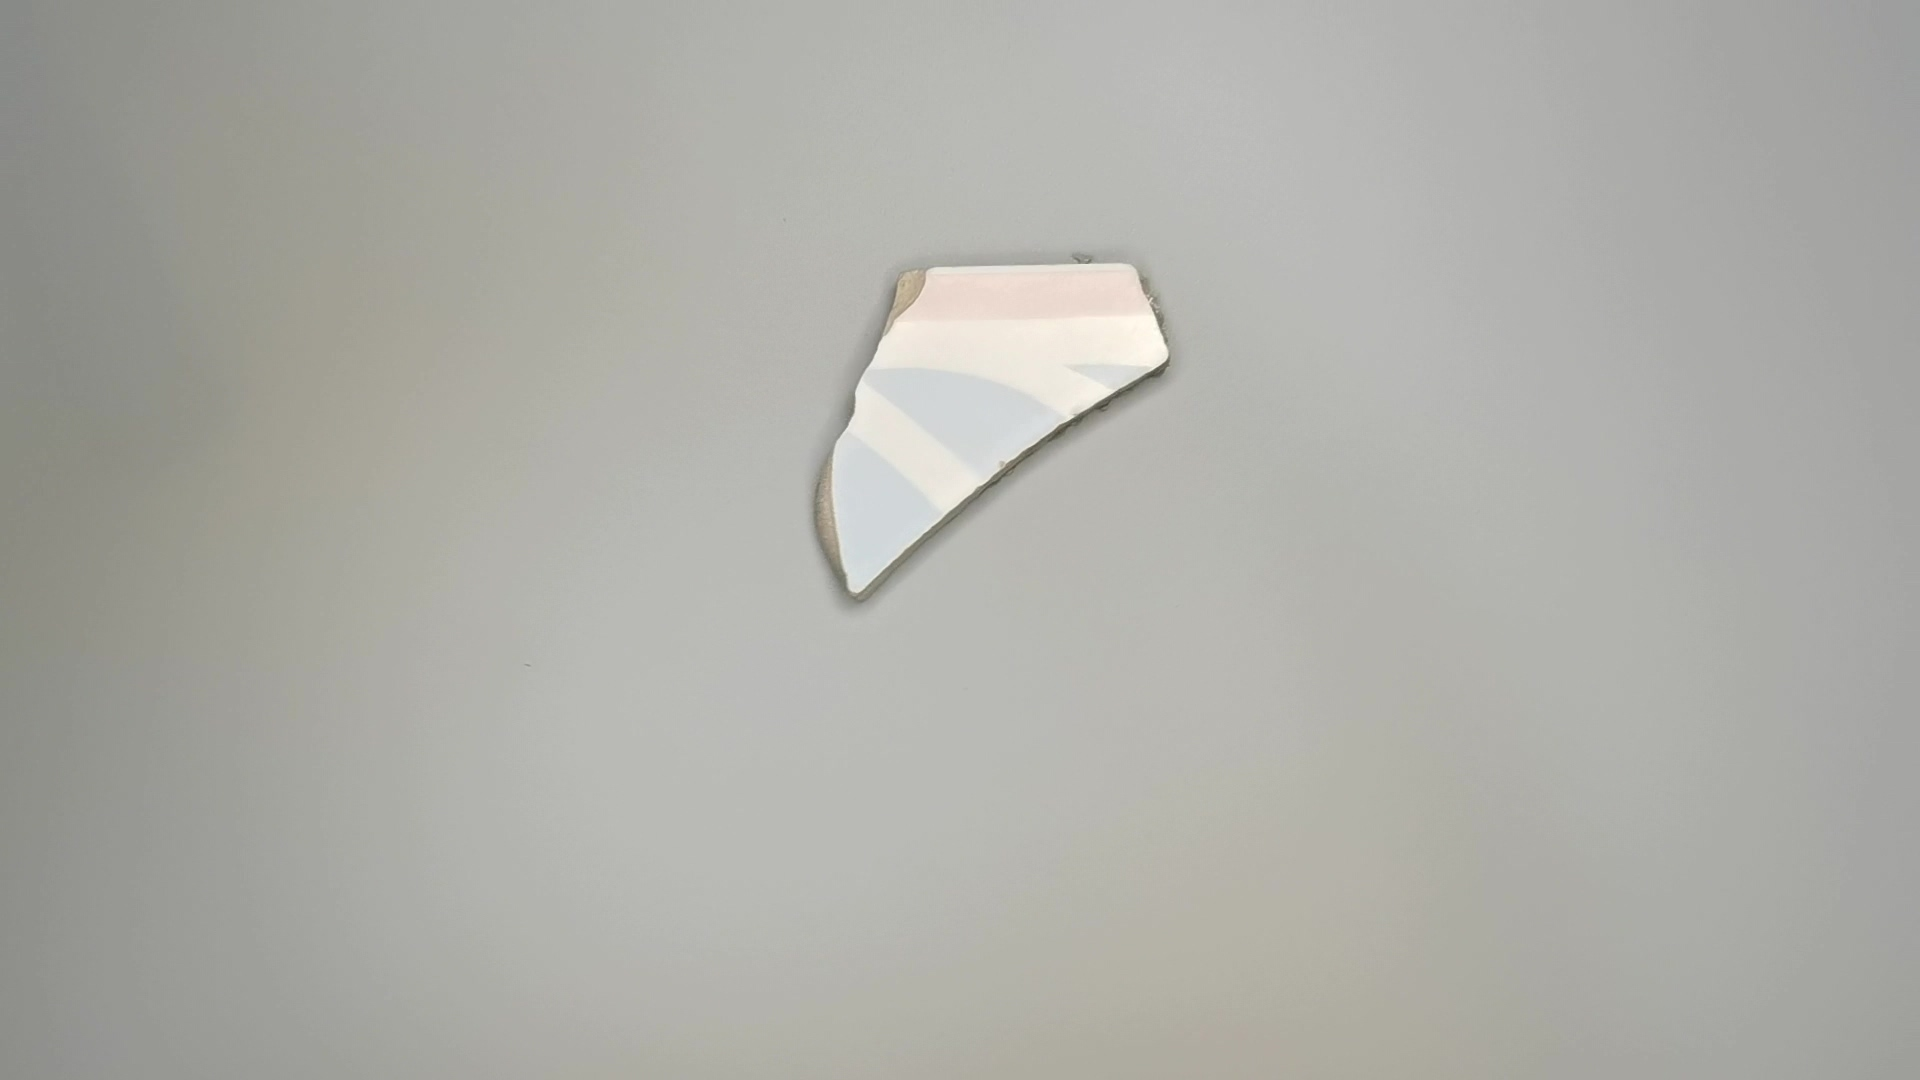ceramic: (808, 252, 1182, 604)
